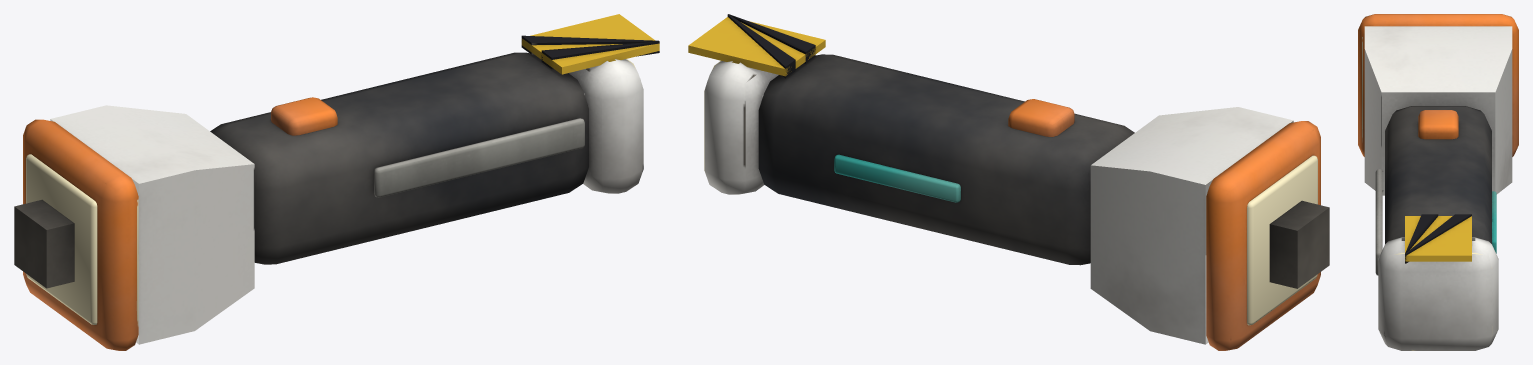
The model's file is flashlight.fbx.
3 renders of one model, left to right at view 1: azimuth 30°, elevation 25°; view 2: azimuth 150°, elevation 25°; view 3: azimuth 270°, elevation 25°, orthographic. The views are drawn at different scales.
Parts seen in each view (by area): view 1: Body, Glow, Lens; view 2: Body, Glow, Lens; view 3: Body.
Part boxes in pixels (x1,y1,x2,y2): Body: [23, 14, 659, 350]; Glow: [26, 154, 97, 324]; Lens: [14, 199, 74, 288]; Body: [688, 14, 1320, 350]; Glow: [1247, 155, 1317, 325]; Lens: [1269, 200, 1329, 288]; Body: [1358, 14, 1518, 350].
Size of the model in its own units: 0.872 by 0.24 by 0.24.
1 material, 1 textured.
